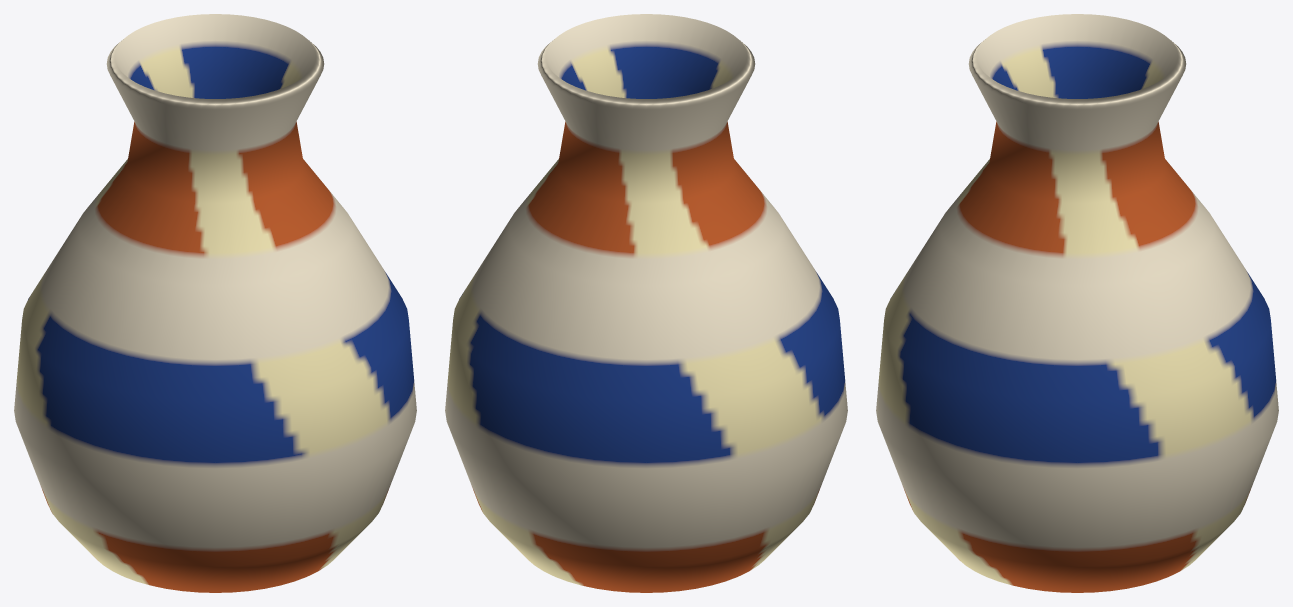
File: vase.obj
3 views of the same model, side by side, from view 1: azimuth 30°, elevation 25°; view 2: azimuth 150°, elevation 25°; view 3: azimuth 270°, elevation 25° (orthographic).
Parts seen in each view (by area): view 1: vase; view 2: vase; view 3: vase.
Boxes of the visible parts, x1=… form: vase: x1=14, y1=14, x2=416, y2=592; vase: x1=445, y1=14, x2=847, y2=592; vase: x1=876, y1=14, x2=1278, y2=592.
Bounding box in the file's own units: 1 × 1.32 × 1.
1 material, 1 textured.
